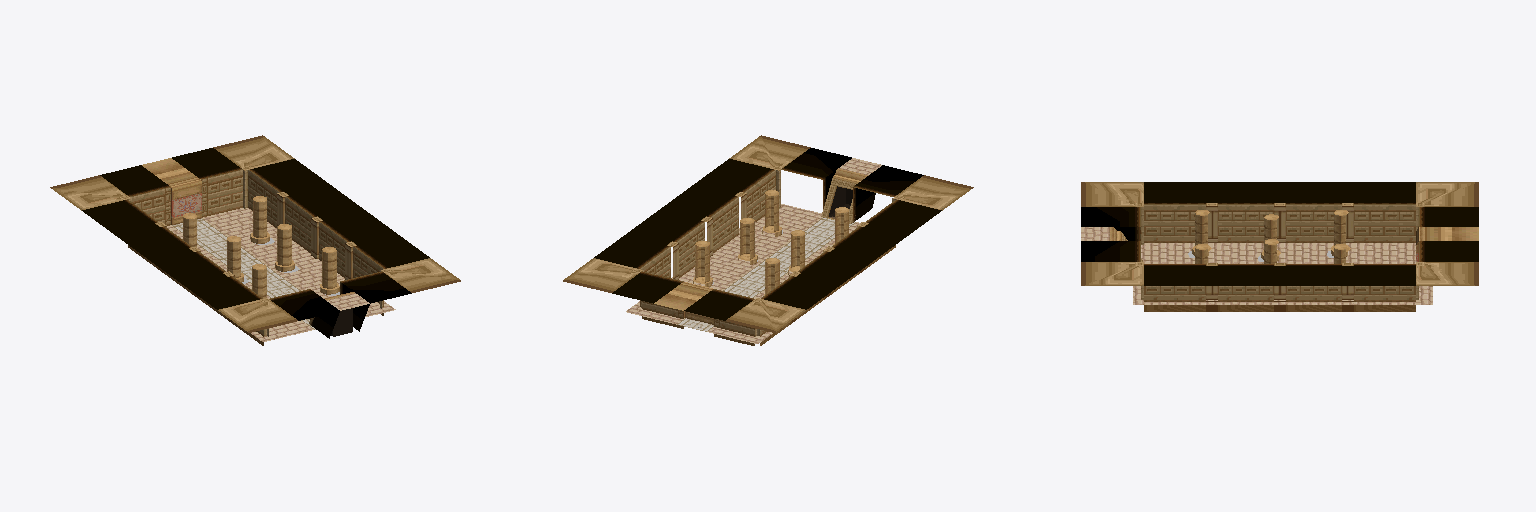
3 views of the same model, side by side, from view 1: azimuth 30°, elevation 25°; view 2: azimuth 150°, elevation 25°; view 3: azimuth 270°, elevation 25° (orthographic).
Parts seen in each view (by area): view 1: polygon9, polygon4, polygon10, polygon5, polygon7, polygon6, polygon2, polygon12, polygon11; view 2: polygon9, polygon4, polygon5, polygon10, polygon7, polygon6, polygon2, polygon11; view 3: polygon9, polygon10, polygon4, polygon5, polygon7, polygon11, polygon2.
Part boxes in pixels (bbox=[...]): polygon9: bbox=[82, 148, 429, 338]; polygon4: bbox=[50, 135, 460, 332]; polygon10: bbox=[128, 170, 383, 345]; polygon5: bbox=[167, 208, 395, 341]; polygon7: bbox=[183, 196, 339, 298]; polygon6: bbox=[172, 218, 315, 329]; polygon2: bbox=[142, 158, 354, 299]; polygon12: bbox=[171, 185, 201, 224]; polygon11: bbox=[159, 194, 352, 322]; polygon9: bbox=[594, 148, 941, 320]; polygon4: bbox=[563, 135, 973, 332]; polygon5: bbox=[626, 158, 881, 343]; polygon10: bbox=[641, 170, 895, 345]; polygon7: bbox=[693, 190, 848, 295]; polygon6: bbox=[677, 218, 855, 331]; polygon2: bbox=[654, 168, 867, 310]; polygon11: bbox=[673, 194, 864, 322]; polygon9: bbox=[1081, 182, 1478, 285]; polygon10: bbox=[1144, 205, 1415, 311]; polygon4: bbox=[1081, 182, 1478, 285]; polygon5: bbox=[1081, 227, 1432, 304]; polygon7: bbox=[1192, 210, 1350, 263]; polygon11: bbox=[1206, 206, 1353, 311]; polygon2: bbox=[1110, 227, 1478, 244].
Size of the model in its own units: 5.33 by 1.24 by 8.62.
14 materials, 12 textured.